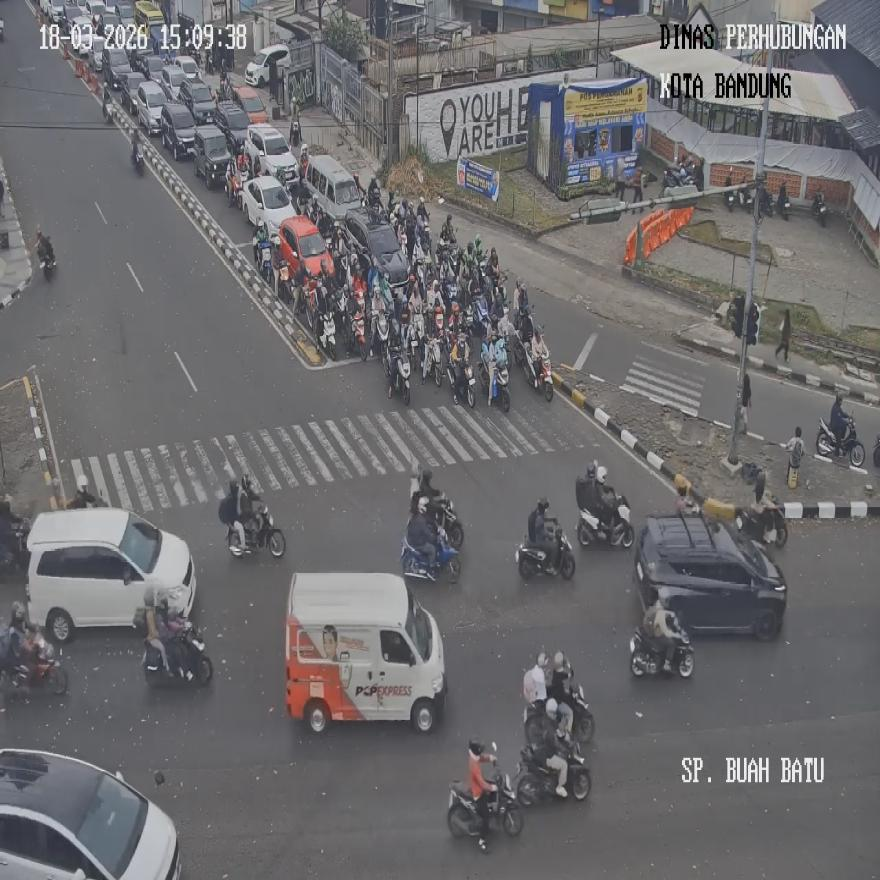Motor: (284, 570, 445, 732), (0, 749, 181, 878), (25, 505, 196, 640), (633, 512, 787, 639)
Truk: (447, 741, 522, 842), (516, 740, 592, 806), (524, 683, 594, 749), (142, 623, 212, 688), (0, 635, 67, 700), (629, 618, 693, 678), (400, 526, 460, 582), (227, 501, 285, 556), (515, 526, 574, 579), (578, 492, 633, 548), (735, 496, 787, 548), (816, 415, 864, 464), (426, 493, 464, 551), (0, 514, 32, 575), (525, 345, 553, 402), (449, 358, 475, 408), (388, 346, 410, 403), (488, 360, 510, 410), (253, 230, 273, 284), (348, 310, 368, 360), (424, 338, 444, 388), (225, 167, 245, 209), (317, 316, 335, 360), (38, 241, 56, 281), (740, 181, 758, 214), (775, 185, 790, 221), (812, 190, 826, 228), (130, 136, 144, 174), (724, 172, 737, 212), (290, 118, 301, 150), (872, 435, 879, 466)
